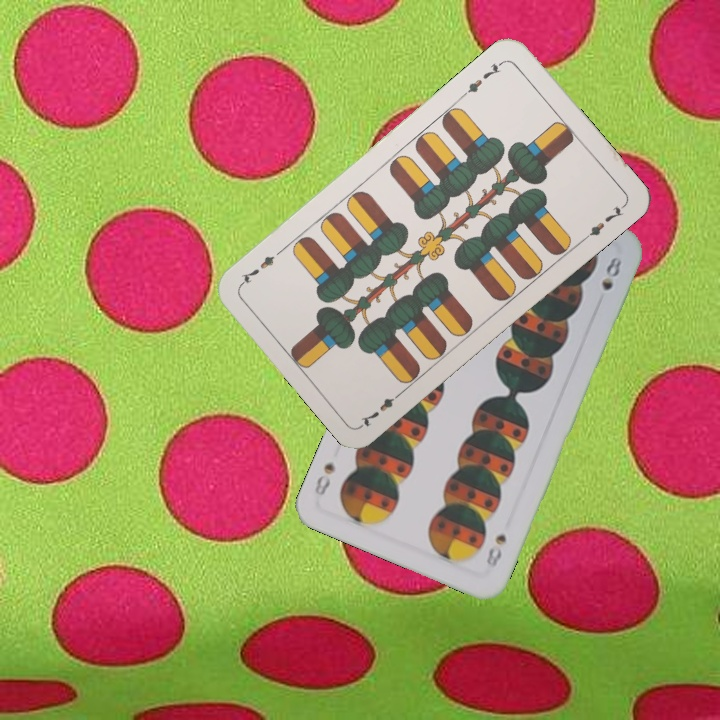E7: (356, 386, 406, 430), (458, 56, 507, 100)
S8: (482, 530, 510, 571)
